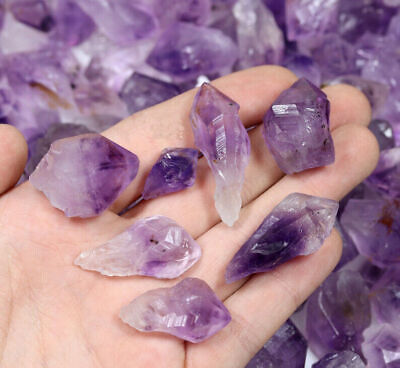Amethyst: (220, 191, 341, 286), (27, 130, 141, 222), (186, 80, 253, 228), (73, 214, 205, 283), (115, 277, 234, 346), (260, 75, 337, 176), (141, 146, 200, 203)
